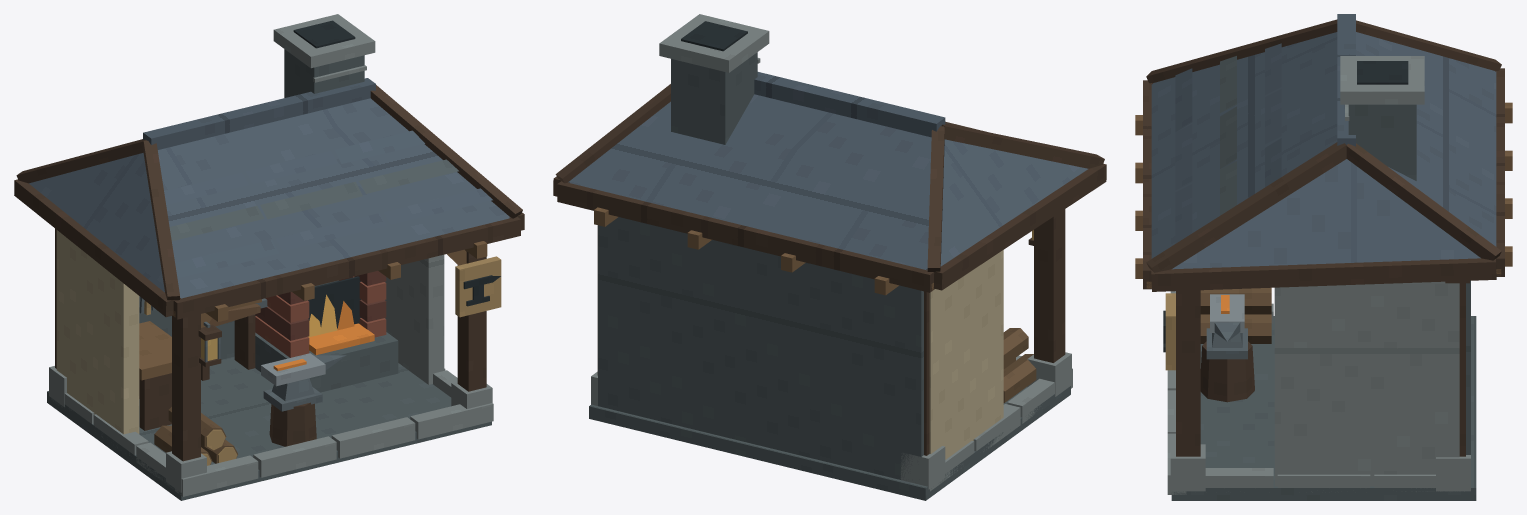
The model's file is forge.glb.
3 renders of one model, left to right at view 1: azimuth 30°, elevation 25°; view 2: azimuth 150°, elevation 25°; view 3: azimuth 270°, elevation 25°, orthographic. The views are drawn at different scales.
Visible parts, largest first — view 1: broad-hipped-front-pitch, continuous-foundation, left-plaster-return, sloping-side-hip, thick-eave-fascia, right-hearth-return, short-ridge-cap, massive-oak-column, side-eave-fascia, hearth-base, chimney-cap, hip-front-timber-edge.001 (+36 smaller); view 2: rear-masonry-wall, broad-hipped-rear-pitch, left-plaster-return, sloping-side-hip, thick-eave-fascia.001, continuous-foundation, chimney-shaft, massive-oak-column, short-ridge-cap, side-eave-fascia, chimney-cap, hip-front-timber-edge (+10 smaller); view 3: right-hearth-return, broad-hipped-front-pitch, sloping-side-hip.001, broad-hipped-rear-pitch, continuous-foundation, side-eave-fascia.001, hip-front-timber-edge.001, massive-oak-column.002, chimney-shaft, hip-back-timber-edge.001, chimney-cap, anvil-oak-stump (+27 smaller).
Part boxes in pixels (x1,y1,x2,y2): broad-hipped-front-pitch: [158, 98, 509, 298]; continuous-foundation: [47, 356, 491, 500]; left-plaster-return: [56, 230, 139, 434]; sloping-side-hip: [29, 153, 164, 292]; thick-eave-fascia: [172, 216, 520, 319]; right-hearth-return: [385, 254, 444, 384]; short-ridge-cap: [143, 78, 375, 149]; massive-oak-column: [172, 314, 200, 461]; side-eave-fascia: [14, 179, 180, 317]; hearth-base: [255, 332, 398, 392]; chimney-cap: [273, 14, 375, 68]; hip-front-timber-edge.001: [370, 85, 522, 218]; rear-masonry-wall: [598, 217, 923, 479]; broad-hipped-rear-pitch: [568, 94, 931, 270]; left-plaster-return: [929, 250, 1003, 459]; sloping-side-hip: [940, 139, 1087, 266]; thick-eave-fascia.001: [557, 181, 934, 292]; continuous-foundation: [589, 386, 1070, 500]; chimney-shaft: [671, 52, 757, 144]; massive-oak-column: [1034, 209, 1065, 362]; short-ridge-cap: [754, 72, 945, 137]; side-eave-fascia: [926, 163, 1106, 290]; chimney-cap: [659, 14, 769, 72]; hip-front-timber-edge: [941, 123, 1104, 168]; right-hearth-return: [1274, 281, 1459, 486]; broad-hipped-front-pitch: [1151, 32, 1337, 258]; sloping-side-hip.001: [1172, 159, 1480, 269]; broad-hipped-rear-pitch: [1356, 32, 1496, 246]; continuous-foundation: [1171, 316, 1476, 500]; side-eave-fascia.001: [1151, 258, 1496, 291]; hip-front-timber-edge.001: [1146, 142, 1346, 272]; massive-oak-column.002: [1176, 290, 1200, 456]; chimney-shaft: [1348, 104, 1416, 180]; hip-back-timber-edge.001: [1346, 143, 1501, 260]; chimney-cap: [1340, 56, 1424, 104]; anvil-oak-stump: [1200, 341, 1254, 402].
Bounding box in the file's own units: 4.57 × 4.16 × 3.67.
1 material, 1 textured.
